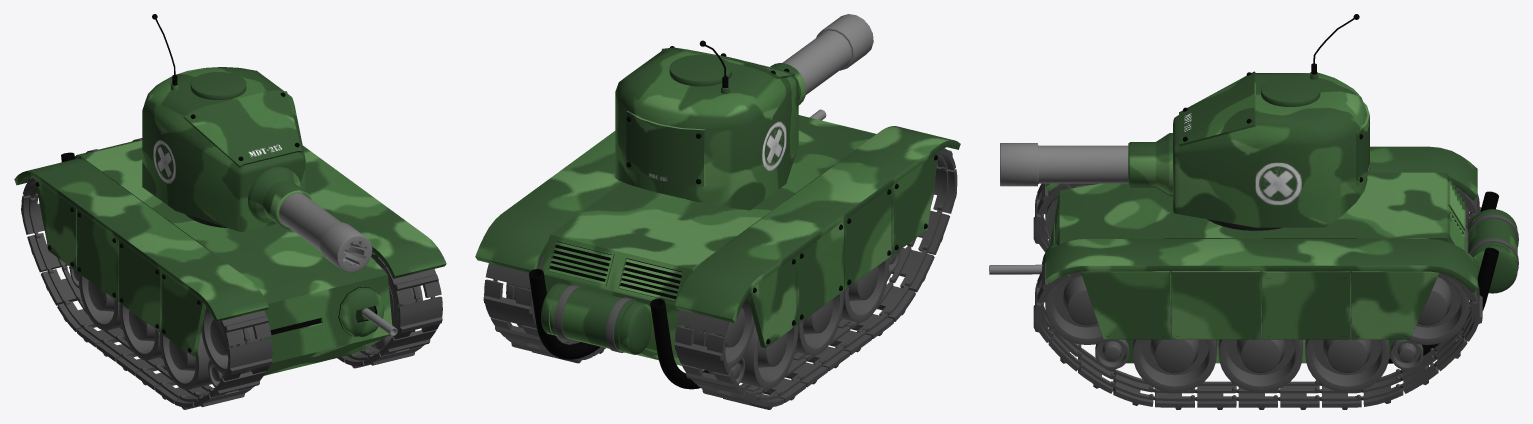
Rendered from tankv003.gltf.
3 renders of one model, left to right at view 1: azimuth 30°, elevation 25°; view 2: azimuth 150°, elevation 25°; view 3: azimuth 270°, elevation 25°, orthographic. The views are drawn at different scales.
Parts seen in each view (by area): view 1: Object_4, Object_11, Object_9, Object_10, Object_7, Object_5, Object_6; view 2: Object_4, Object_11, Object_9, Object_6, Object_7, Object_10, Object_12, Object_8, Object_5; view 3: Object_4, Object_9, Object_10, Object_7, Object_8, Object_11, Object_6.
Boxes of the visible parts, <box> form: Object_4: <box>14,67,446,375</box>; Object_11: <box>21,177,272,409</box>; Object_9: <box>42,219,422,389</box>; Object_10: <box>337,252,442,368</box>; Object_7: <box>279,193,397,335</box>; Object_5: <box>35,14,299,352</box>; Object_6: <box>61,152,378,336</box>; Object_4: <box>475,47,960,370</box>; Object_11: <box>674,148,957,409</box>; Object_9: <box>506,178,935,389</box>; Object_6: <box>529,241,709,389</box>; Object_7: <box>782,14,873,120</box>; Object_10: <box>483,252,605,363</box>; Object_12: <box>499,236,922,405</box>; Object_8: <box>554,285,636,352</box>; Object_5: <box>626,40,937,344</box>; Object_4: <box>1042,71,1517,363</box>; Object_9: <box>1045,183,1469,392</box>; Object_10: <box>1033,262,1482,409</box>; Object_7: <box>989,143,1128,274</box>; Object_8: <box>1095,214,1518,370</box>; Object_11: <box>1033,183,1481,252</box>; Object_6: <box>1042,191,1498,363</box>.
Bounding box in the file's own units: 1.08 × 1.37 × 2.03.
Materials: 6 (1 with a texture image).
